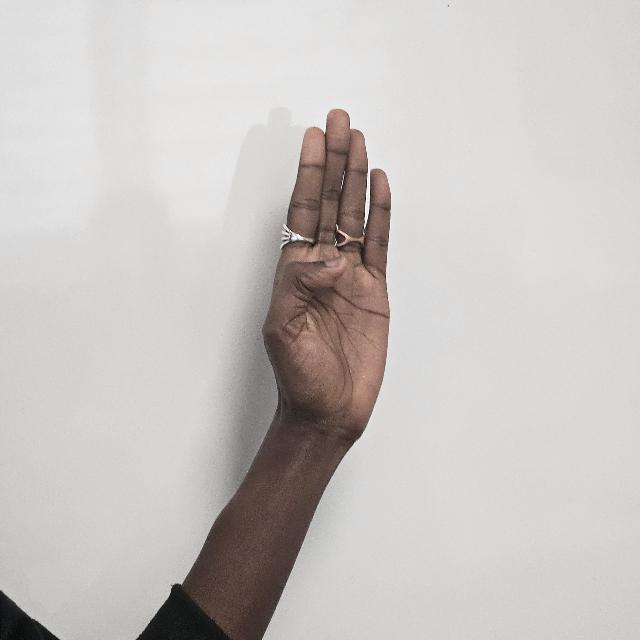Baixo: (260, 106, 400, 444)
